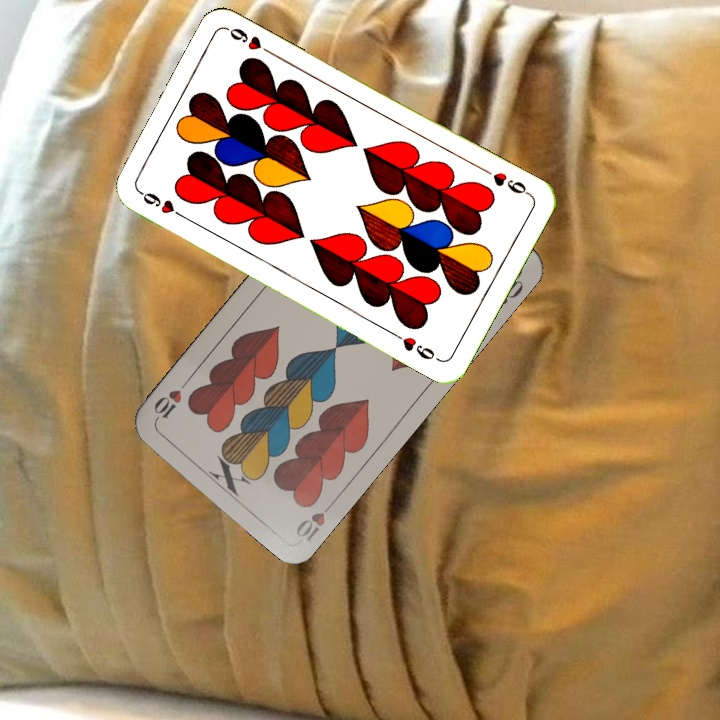H10: (291, 495, 339, 545)
H9: (136, 187, 190, 222), (478, 164, 533, 198)
